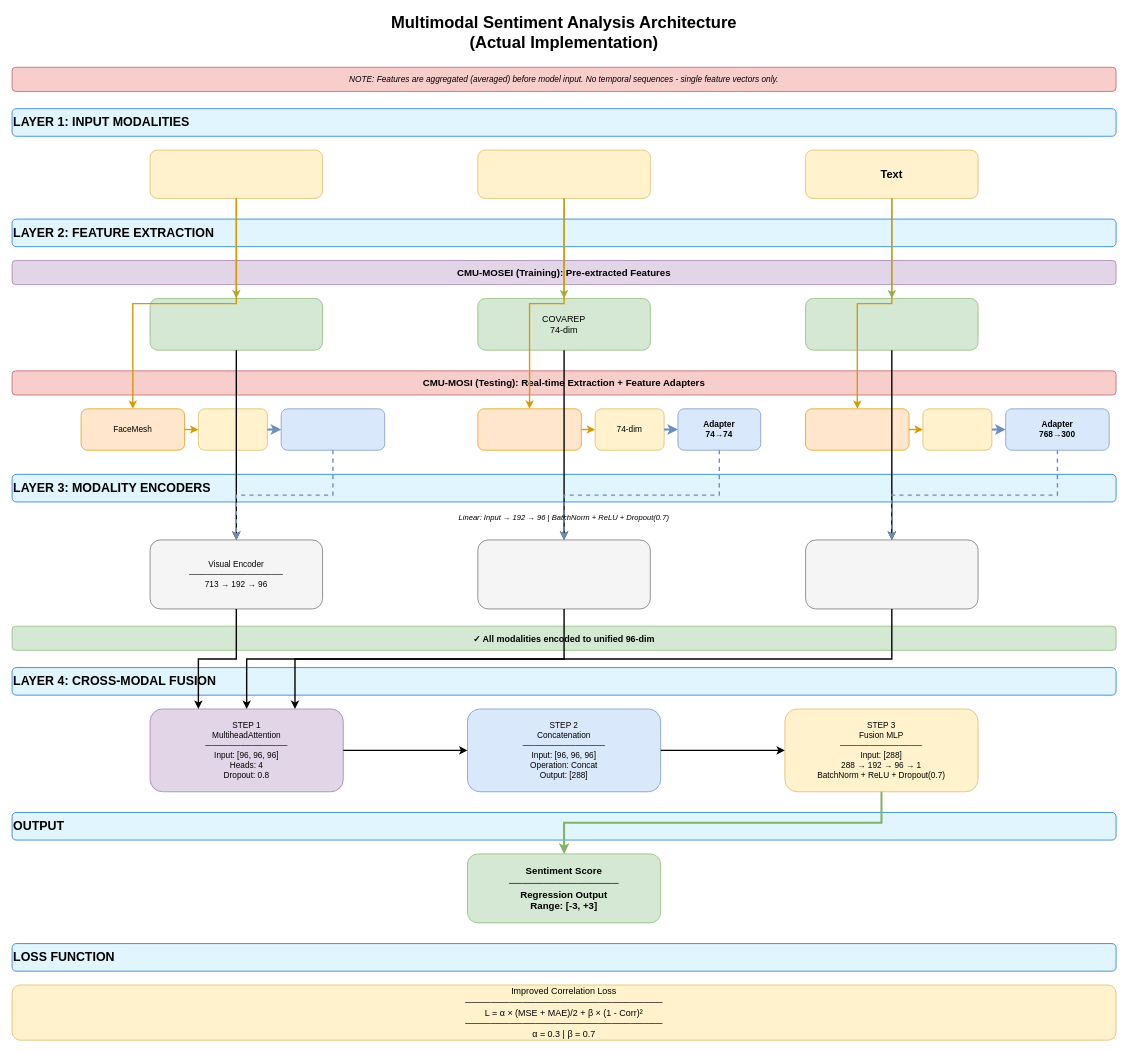
This 1128x1052 diagram has some shape labels left out. The centre of each missing label's shape, as x and y in pixels:
65-dim: the point at 232,429
768-dim: the point at 957,429
Adapter 65→713: the point at 332,429
Audio: the point at 563,173
Audio Encoder ──────────────── 74 → 192 → 96: the point at 563,574
BERT: the point at 857,429
GloVe 300-dim: the point at 891,324
Librosa: the point at 529,429
OpenFace2 713-dim: the point at 236,324
Text Encoder ──────────────── 300 → 192 → 96: the point at 891,574
Video: the point at 236,173
